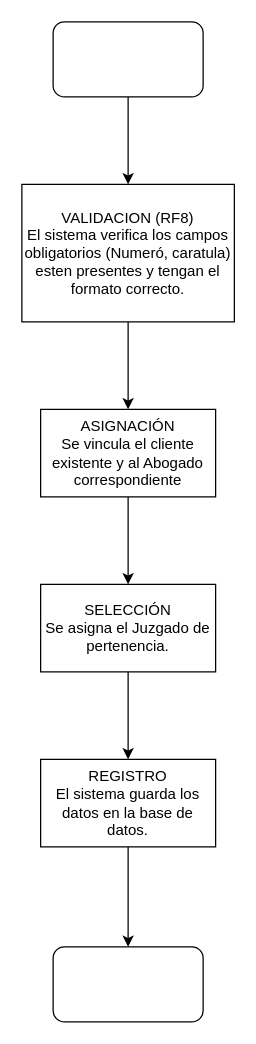
This 256x1044 diagram has some shape labels left out. Here are the shapes that lost their labels. From the top down, the centre of each, then its label:
At (x=127, y=59): "INICIO".
At (x=127, y=984): "FIN".
